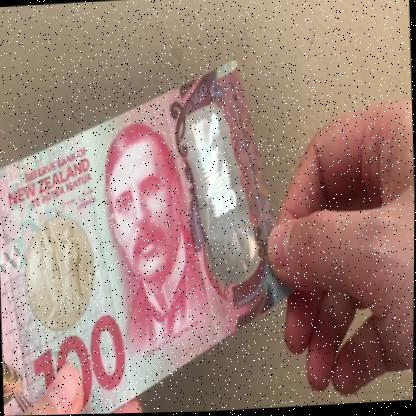100F: (188, 107, 258, 285)
